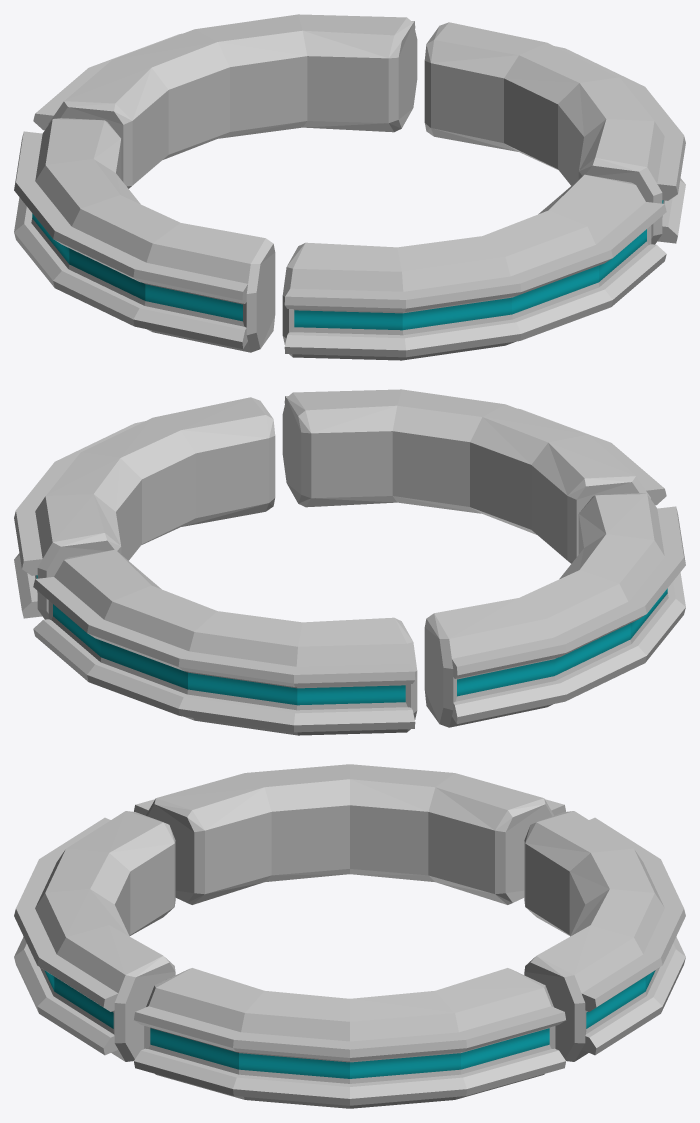
Rendered from Mining_ring.fbx.
The picture shows the model from 3 angles, top to bottom: view 1: azimuth 30°, elevation 25°; view 2: azimuth 150°, elevation 25°; view 3: azimuth 270°, elevation 25°; orthographic projection. The views are drawn at different scales.
Visible parts, largest first — view 1: Mining_ring; view 2: Mining_ring; view 3: Mining_ring.
Boxes of the visible parts, <box> form: Mining_ring: <box>14,14,685,360</box>; Mining_ring: <box>14,389,685,735</box>; Mining_ring: <box>14,764,685,1108</box>.
Size of the model in its own units: 22.84 by 3.56 by 22.84.
